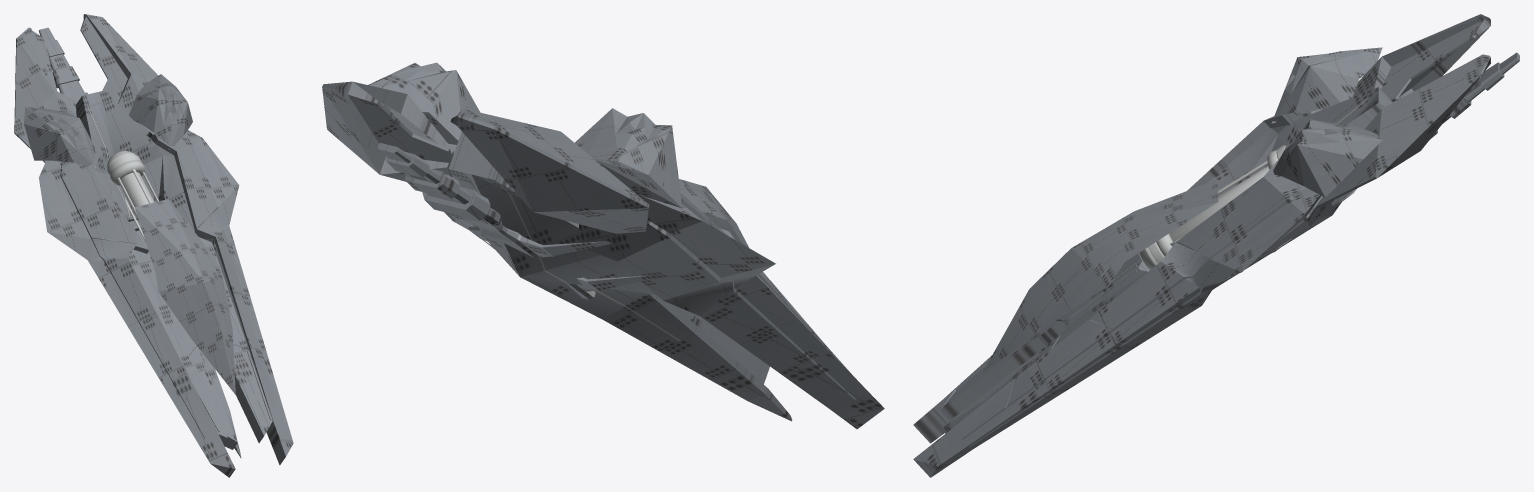
The model's file is wingweak_close.fbx.
3 views of the same model, side by side, from view 1: azimuth 30°, elevation 25°; view 2: azimuth 150°, elevation 25°; view 3: azimuth 270°, elevation 25° (orthographic). The views are drawn at different scales.
Visible parts, largest first — view 1: polySurface3256, polySurface3234; view 2: polySurface3256, polySurface3234; view 3: polySurface3256, polySurface3234.
Part boxes in pixels (x1,y1,x2,y2): polySurface3256: [14, 14, 293, 477]; polySurface3234: [135, 199, 235, 394]; polySurface3256: [322, 62, 884, 429]; polySurface3234: [679, 179, 748, 247]; polySurface3256: [913, 14, 1519, 477]; polySurface3234: [982, 179, 1218, 372].
Bounding box in the file's own units: 3.97 × 6.03 × 7.77.
2 materials, 2 textured.
